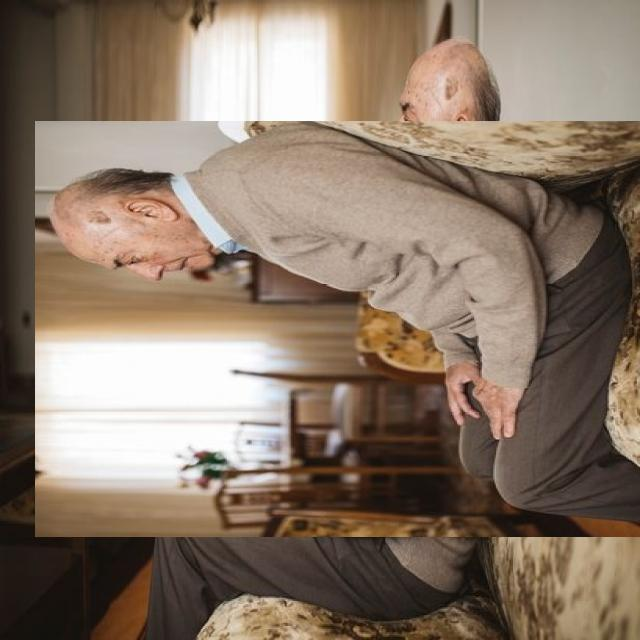NotFall: (25, 98, 625, 544)
